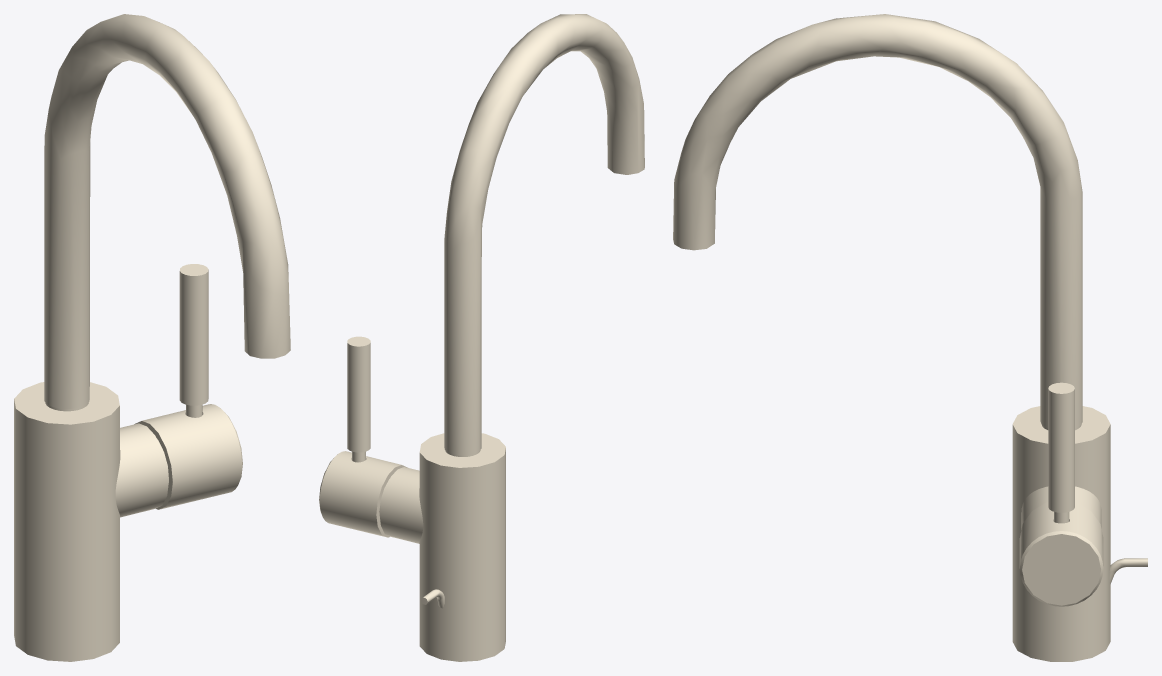
3 renders of one model, left to right at view 1: azimuth 30°, elevation 25°; view 2: azimuth 150°, elevation 25°; view 3: azimuth 270°, elevation 25°, orthographic. The views are drawn at different scales.
Visible parts, largest first — view 1: L_d6ffeed3_2ec5_4107_b937_0d0f4ce2a59e_I9, L_26d850e8_e314_4703_90a8_7b9e7d935aff_I2, L_b22a42c8_ce7e_4998_8fea_58eefcf1fbc7_I7, L_3efa3830_ac6c_4dc4_9e54_424aaf0a75a0_I4, L_c2ca9cbd_95a5_4fce_bc6a_e479e79db1bc_I8; view 2: L_d6ffeed3_2ec5_4107_b937_0d0f4ce2a59e_I9, L_26d850e8_e314_4703_90a8_7b9e7d935aff_I2, L_b22a42c8_ce7e_4998_8fea_58eefcf1fbc7_I7, L_3efa3830_ac6c_4dc4_9e54_424aaf0a75a0_I4, L_c2ca9cbd_95a5_4fce_bc6a_e479e79db1bc_I8; view 3: L_d6ffeed3_2ec5_4107_b937_0d0f4ce2a59e_I9, L_26d850e8_e314_4703_90a8_7b9e7d935aff_I2, L_b22a42c8_ce7e_4998_8fea_58eefcf1fbc7_I7, L_3efa3830_ac6c_4dc4_9e54_424aaf0a75a0_I4, L_c2ca9cbd_95a5_4fce_bc6a_e479e79db1bc_I8.
Part boxes in pixels (left/top/right/bottom): L_d6ffeed3_2ec5_4107_b937_0d0f4ce2a59e_I9: left=44, top=14, right=290, bottom=408; L_26d850e8_e314_4703_90a8_7b9e7d935aff_I2: left=14, top=382, right=119, bottom=661; L_b22a42c8_ce7e_4998_8fea_58eefcf1fbc7_I7: left=134, top=404, right=242, bottom=509; L_3efa3830_ac6c_4dc4_9e54_424aaf0a75a0_I4: left=179, top=264, right=208, bottom=405; L_c2ca9cbd_95a5_4fce_bc6a_e479e79db1bc_I8: left=115, top=423, right=168, bottom=517; L_d6ffeed3_2ec5_4107_b937_0d0f4ce2a59e_I9: left=444, top=14, right=644, bottom=455; L_26d850e8_e314_4703_90a8_7b9e7d935aff_I2: left=419, top=433, right=505, bottom=661; L_b22a42c8_ce7e_4998_8fea_58eefcf1fbc7_I7: left=319, top=451, right=407, bottom=537; L_3efa3830_ac6c_4dc4_9e54_424aaf0a75a0_I4: left=347, top=336, right=370, bottom=452; L_c2ca9cbd_95a5_4fce_bc6a_e479e79db1bc_I8: left=379, top=467, right=423, bottom=543; L_d6ffeed3_2ec5_4107_b937_0d0f4ce2a59e_I9: left=673, top=14, right=1082, bottom=428; L_26d850e8_e314_4703_90a8_7b9e7d935aff_I2: left=1012, top=406, right=1110, bottom=661; L_b22a42c8_ce7e_4998_8fea_58eefcf1fbc7_I7: left=1019, top=502, right=1103, bottom=606; L_3efa3830_ac6c_4dc4_9e54_424aaf0a75a0_I4: left=1048, top=382, right=1074, bottom=512; L_c2ca9cbd_95a5_4fce_bc6a_e479e79db1bc_I8: left=1021, top=486, right=1101, bottom=529.
Size of the model in its own units: 0.095 by 0.3099 by 0.2136.
